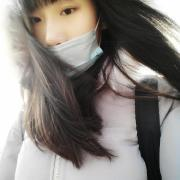WRONG: (21, 2, 96, 77)
